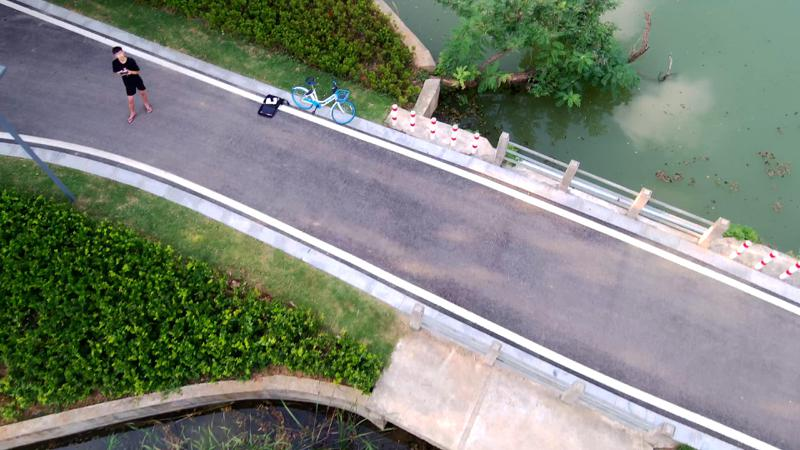passerby: (110, 45, 153, 124)
